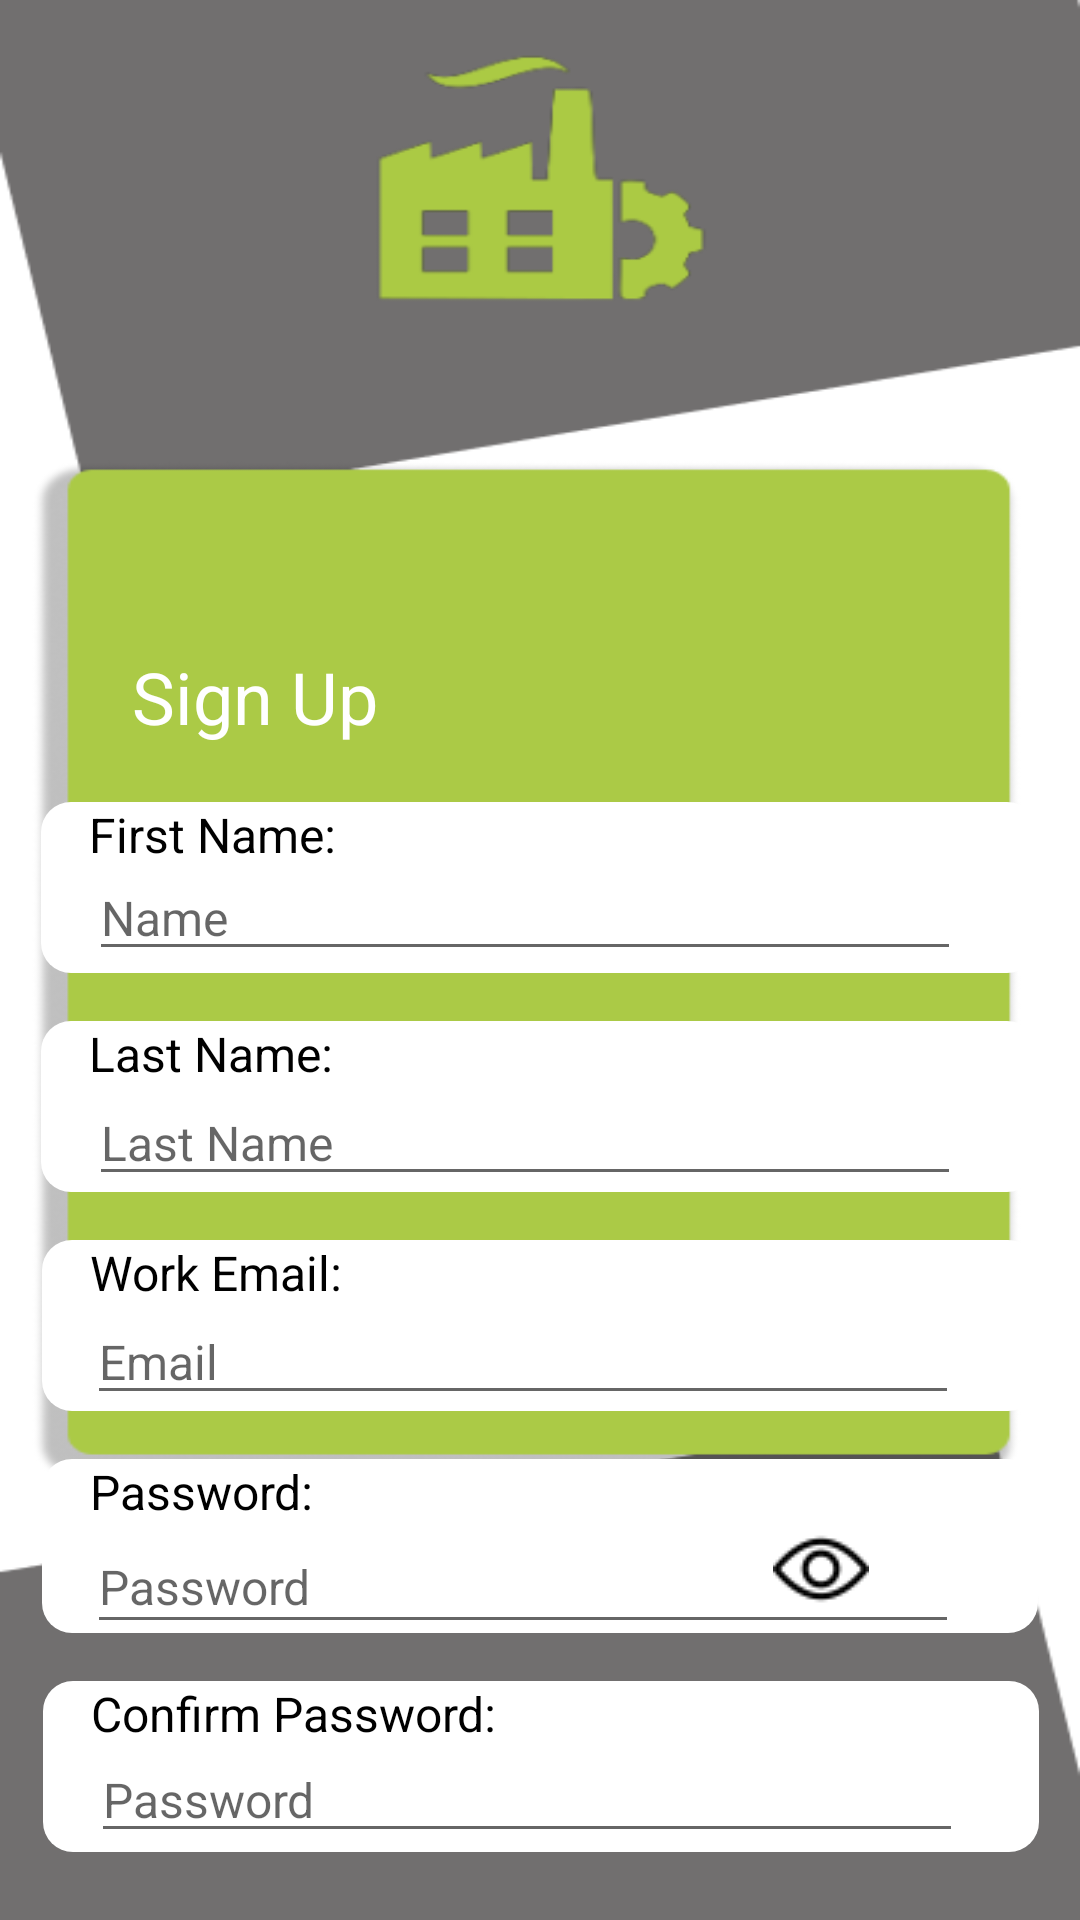

Where icons sit on this 1080×1920 app screen, as (x1, y1, x2, y2):
view: (773, 1536, 869, 1602)
